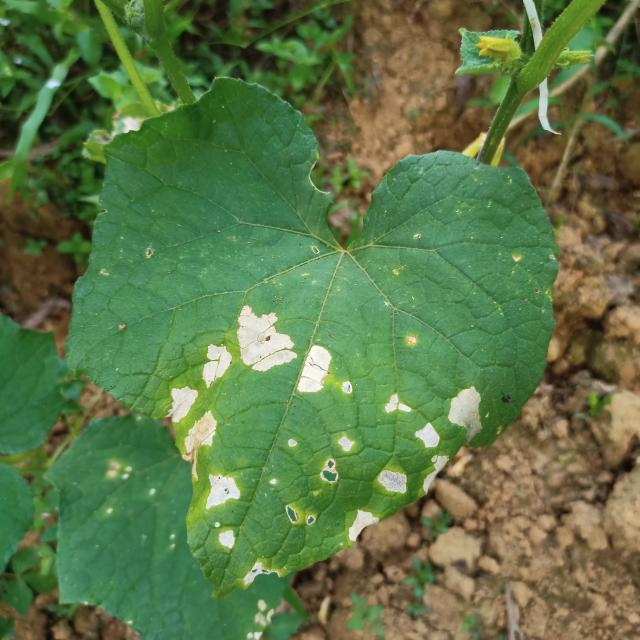disease_cucumber: (235, 302, 335, 398), (385, 384, 485, 446), (168, 384, 220, 454), (204, 469, 244, 553), (378, 452, 448, 492), (318, 434, 352, 484), (199, 341, 232, 389), (343, 506, 377, 544)
